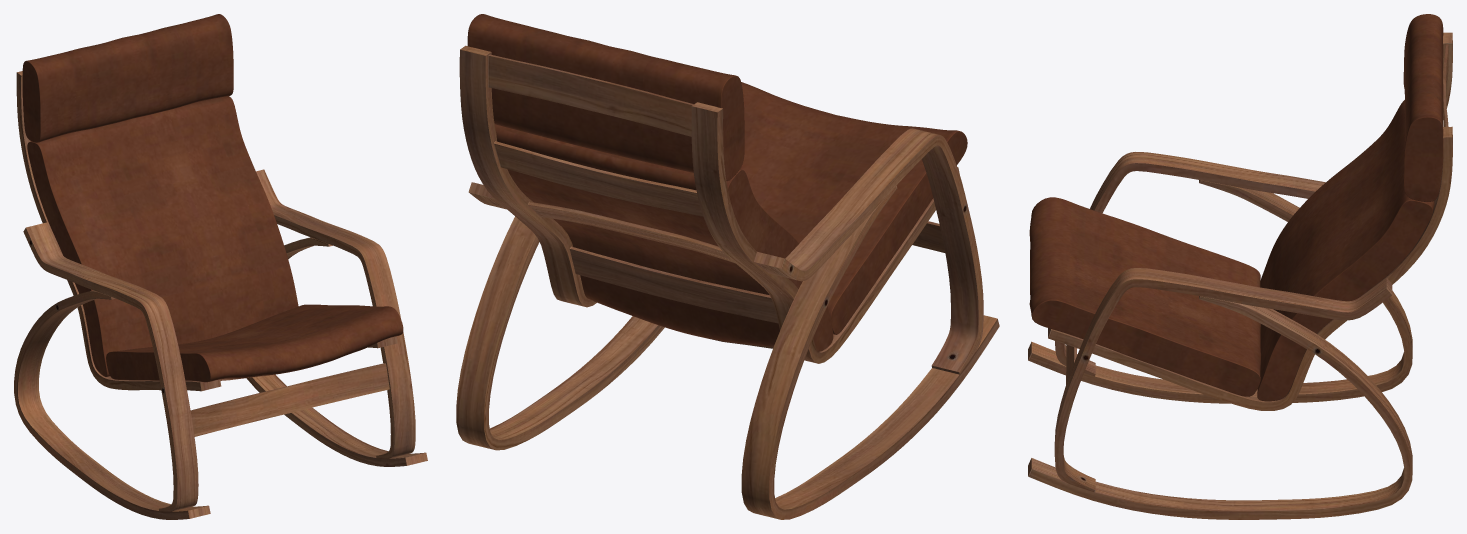
3 renders of one model, left to right at view 1: azimuth 30°, elevation 25°; view 2: azimuth 150°, elevation 25°; view 3: azimuth 270°, elevation 25°, orthographic. The views are drawn at different scales.
Visible parts, largest first — view 1: lp_top, lp_bottom; view 2: lp_bottom, lp_top; view 3: lp_top, lp_bottom.
Part boxes in pixels (x1,y1,x2,y2): lp_top: [22, 14, 403, 382]; lp_bottom: [14, 71, 427, 519]; lp_bottom: [456, 45, 999, 519]; lp_top: [467, 14, 967, 351]; lp_top: [1029, 14, 1443, 401]; lp_bottom: [1028, 32, 1452, 519].
Bounding box in the file's own units: 0.7193 × 1.03 × 1.01.
Materials: 1 (1 with a texture image).
